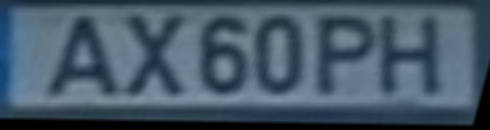0: (253, 13, 305, 100)
6: (199, 13, 252, 99)
A: (40, 13, 122, 100)
H: (377, 15, 444, 98)
P: (313, 15, 378, 102)
X: (121, 13, 189, 100)
